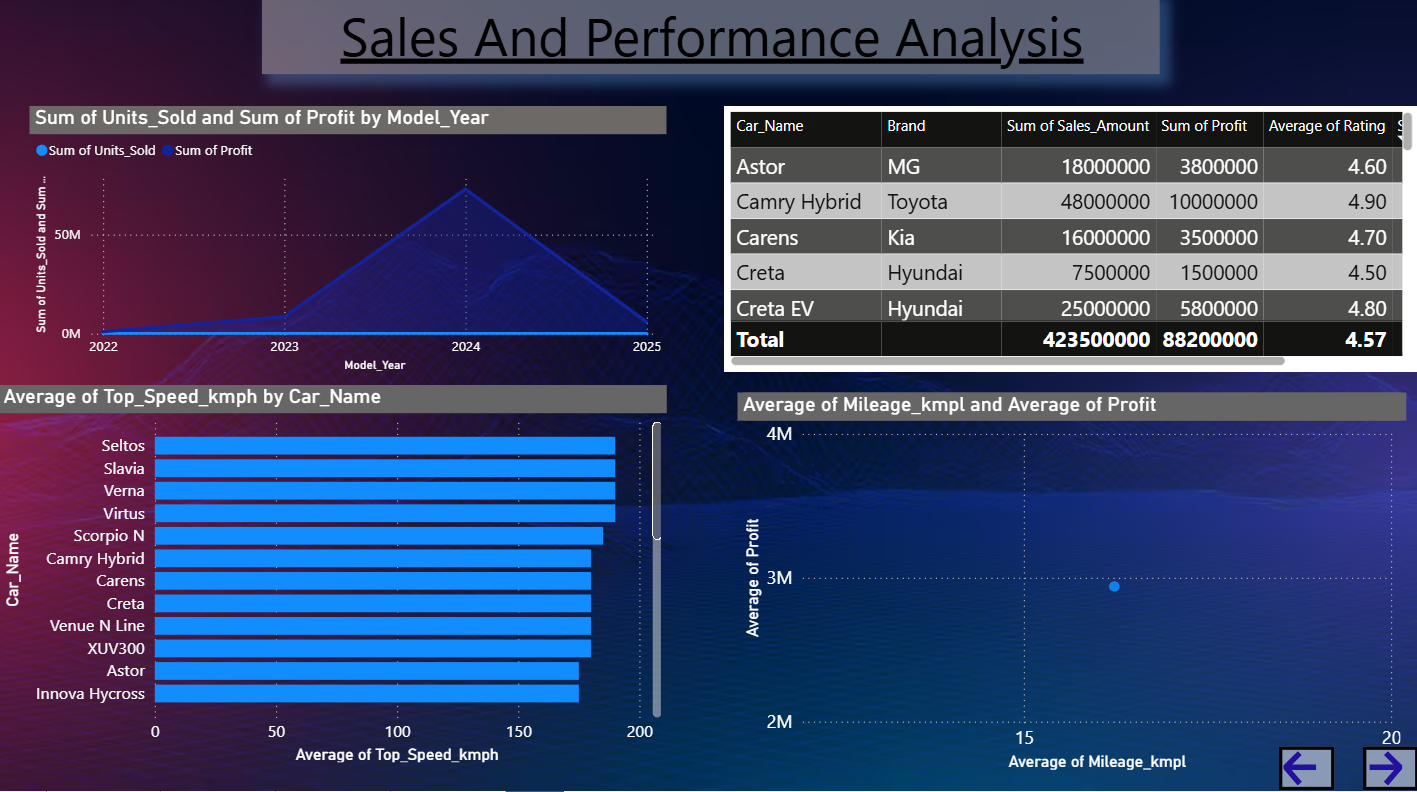

Layout of this report page (visuals, bound fields, positions):
{"tool":"powerbi","page":{"name":"Page 3","canvas":[1280,720],"ordinal":2},"visuals":[{"type":"lineChart","fields":{"Y":["Sum(Car_Dashboard_Final_30Cars (1) (1).Units_Sold)","Sum(Car_Dashboard_Final_30Cars (1) (1).Profit)"],"Category":["Car_Dashboard_Final_30Cars (1) (1).Model_Year"]},"box":[28.8,103,573.9,243.8],"z":0},{"type":"scatterChart","fields":{"X":["Avg(Car_Dashboard_Final_30Cars (1) (1).Mileage_kmpl)"],"Y":["Avg(Car_Dashboard_Final_30Cars (1) (1).Profit)"]},"box":[666.3,360.4,602.7,345.2],"z":1000},{"type":"barChart","fields":{"Category":["Car_Dashboard_Final_30Cars (1) (1).Car_Name"],"Y":["Avg(Car_Dashboard_Final_30Cars (1) (1).Top_Speed_kmph)"]},"box":[0,354.3,602.7,345.2],"z":3000},{"type":"tableEx","fields":{"Values":["Car_Dashboard_Final_30Cars (1) (1).Car_Name","Car_Dashboard_Final_30Cars (1) (1).Brand","Sum(Car_Dashboard_Final_30Cars (1) (1).Sales_Amount)","Sum(Car_Dashboard_Final_30Cars (1) (1).Profit)","Avg(Car_Dashboard_Final_30Cars (1) (1).Rating)","Sum(Car_Dashboard_Final_30Cars (1) (1).Safety_Rating)"]},"box":[654.1,103,625.4,239.2],"z":4000},{"type":"actionButton","box":[1229.5,679.9,50,39.4],"z":5000},{"type":"actionButton","box":[1153.8,679.9,50,39.4],"z":6000},{"type":"textbox","box":[237.7,0,808.6,74.2],"z":7000}]}

Visuals, with their boxes in screenshot pixels (x1, y1, x2, y2), scaled from the page's 1280x720 canvas onto the 1417x792 screenshot:
lineChart - Sum(Car_Dashboard_Final_30Cars (1) (1).Units_Sold) x Sum(Car_Dashboard_Final_30Cars (1) (1).Profit): x1=32, y1=113, x2=667, y2=381
scatterChart - Avg(Car_Dashboard_Final_30Cars (1) (1).Mileage_kmpl) x Avg(Car_Dashboard_Final_30Cars (1) (1).Profit): x1=738, y1=396, x2=1405, y2=776
barChart - Car_Dashboard_Final_30Cars (1) (1).Car_Name x Avg(Car_Dashboard_Final_30Cars (1) (1).Top_Speed_kmph): x1=0, y1=390, x2=667, y2=769
tableEx - Car_Dashboard_Final_30Cars (1) (1).Car_Name x Car_Dashboard_Final_30Cars (1) (1).Brand: x1=724, y1=113, x2=1416, y2=376
actionButton: x1=1361, y1=748, x2=1416, y2=791
actionButton: x1=1277, y1=748, x2=1333, y2=791
textbox: x1=263, y1=0, x2=1158, y2=82
